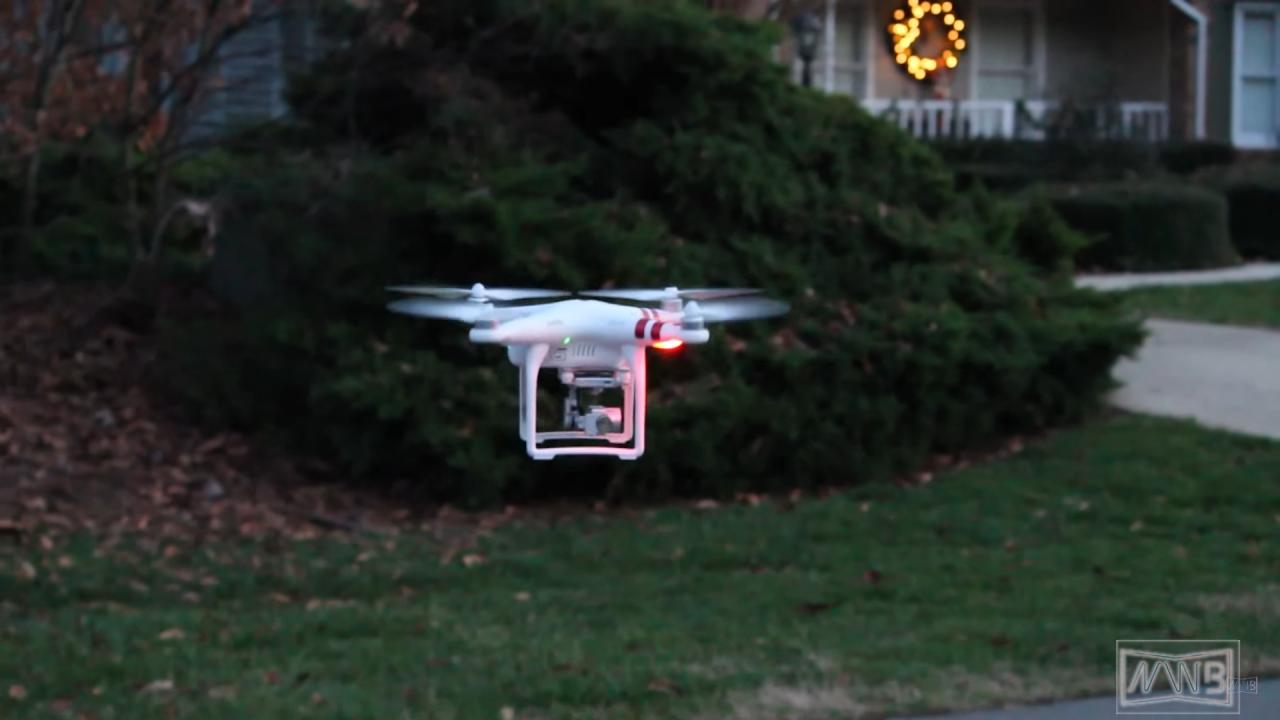Drone: (371, 270, 802, 475)
